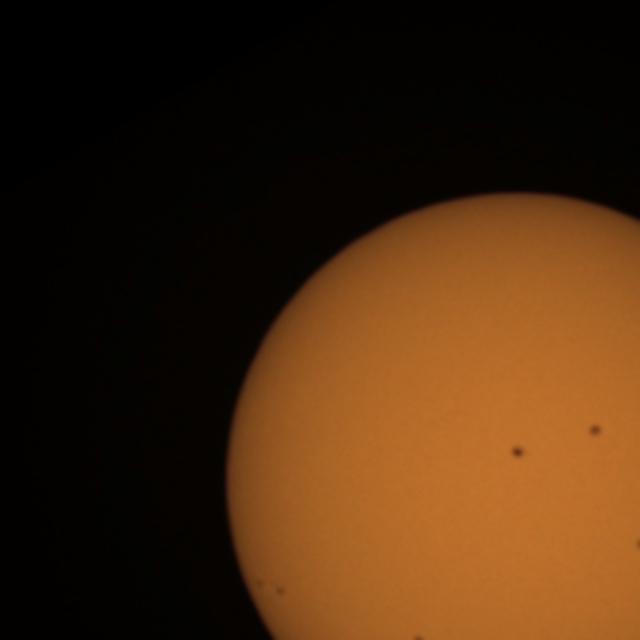sunspot: (253, 577, 288, 599), (508, 443, 526, 462), (586, 422, 604, 440), (633, 534, 640, 554), (410, 633, 427, 640)
